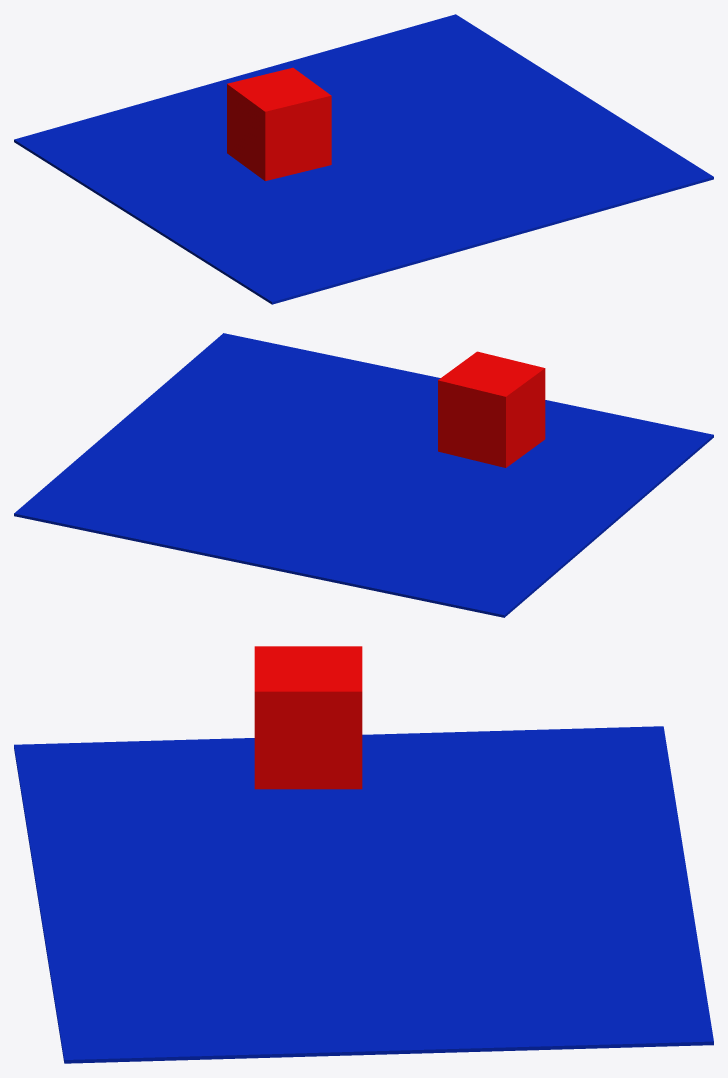
Rendered from WaterScene.obj.
3 renders of one model, top to bottom at view 1: azimuth 30°, elevation 25°; view 2: azimuth 150°, elevation 25°; view 3: azimuth 270°, elevation 25°, orthographic. The views are drawn at different scales.
Visible parts, largest first — view 1: Water_Blue, RedCube_Red; view 2: Water_Blue, RedCube_Red; view 3: Water_Blue, RedCube_Red.
Part boxes in pixels (box(x1,y1,x2,y2)): Water_Blue: box(14, 14, 713, 304); RedCube_Red: box(227, 67, 331, 180); Water_Blue: box(14, 333, 713, 617); RedCube_Red: box(438, 351, 545, 467); Water_Blue: box(14, 726, 713, 1063); RedCube_Red: box(254, 646, 362, 789).
Size of the model in its own units: 14.68 by 4.84 by 13.01.
